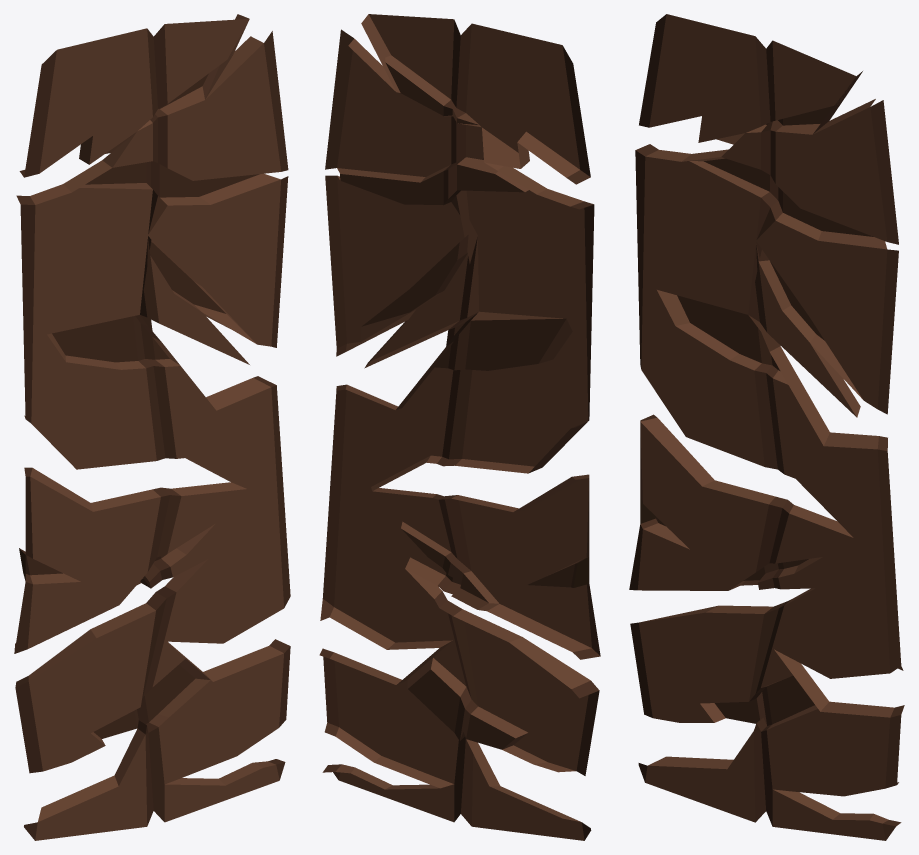
The model's file is breakable_woodenWall_highDmg_mod_01.fbx.
3 renders of one model, left to right at view 1: azimuth 30°, elevation 25°; view 2: azimuth 150°, elevation 25°; view 3: azimuth 330°, elevation 25°, orthographic. The views are drawn at different scales.
Parts seen in each view (by area): view 1: Cube; view 2: Cube; view 3: Cube.
Part boxes in pixels (x1,y1,x2,y2): Cube: (14, 14, 290, 840); Cube: (319, 14, 600, 840); Cube: (629, 14, 904, 840).
Size of the model in its own units: 2.17 by 0.2243 by 6.
